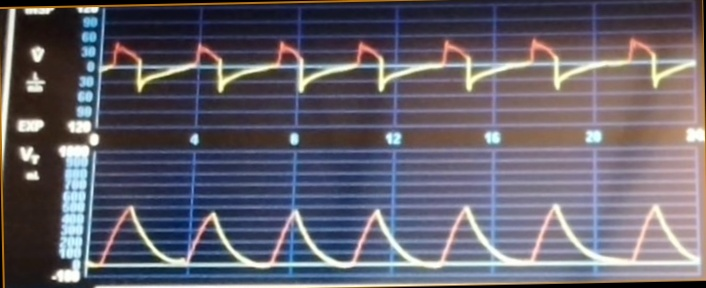Normal Flow: (104, 20, 695, 115)
Normal Volume: (94, 184, 697, 276)
